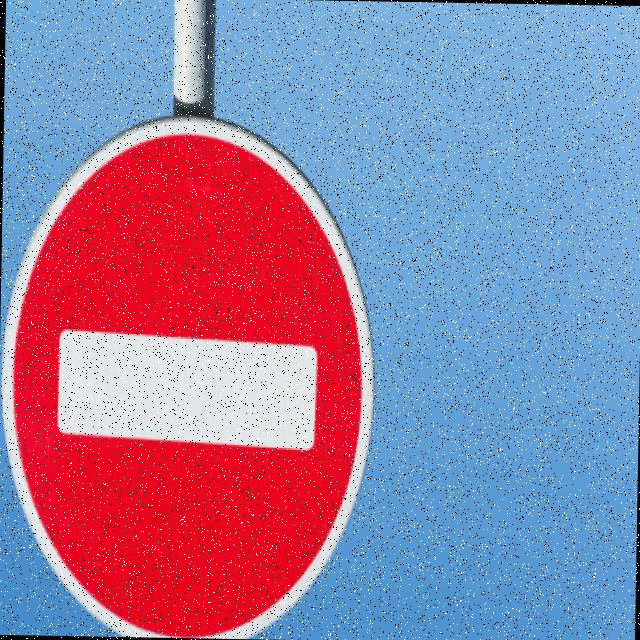do_not_enter: (0, 109, 379, 640)
